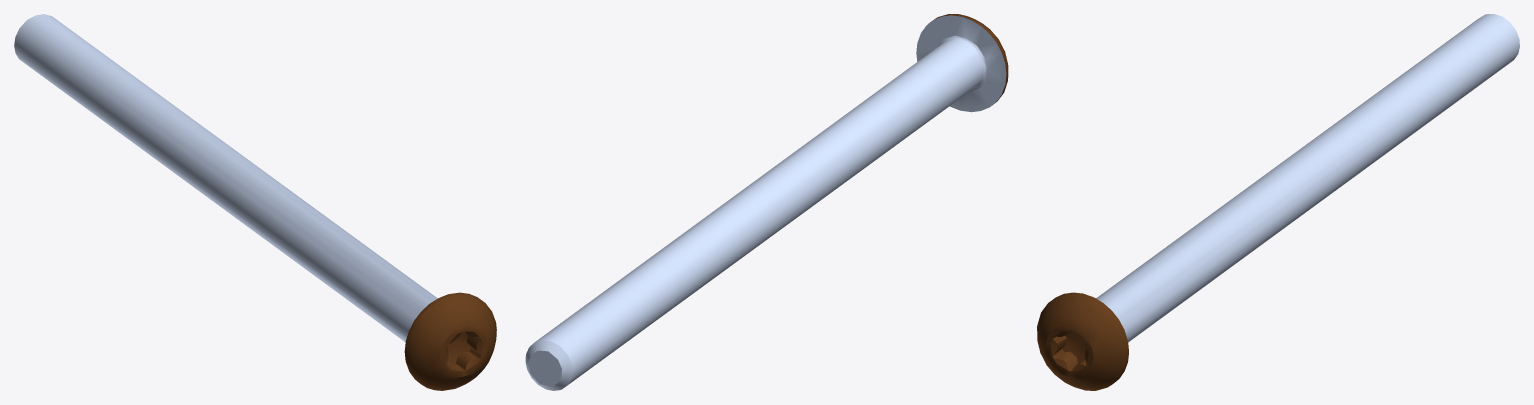
The model's file is Colored__8-32_x_2_500_Star_Drive_Screw__276-8016__001.glb.
3 renders of one model, left to right at view 1: azimuth 30°, elevation 25°; view 2: azimuth 150°, elevation 25°; view 3: azimuth 330°, elevation 25°, orthographic.
Parts seen in each view (by area): view 1: Colored #8-32 x 2.500 Star Drive Screw (276-8016).001; view 2: Colored #8-32 x 2.500 Star Drive Screw (276-8016).001; view 3: Colored #8-32 x 2.500 Star Drive Screw (276-8016).001.
Boxes of the visible parts, x1,y1,x2,y2 form: Colored #8-32 x 2.500 Star Drive Screw (276-8016).001: (14,14,496,390); Colored #8-32 x 2.500 Star Drive Screw (276-8016).001: (525,14,1008,390); Colored #8-32 x 2.500 Star Drive Screw (276-8016).001: (1037,14,1519,390).
Bounding box in the file's own units: 0.3125 × 0.3127 × 2.59.
